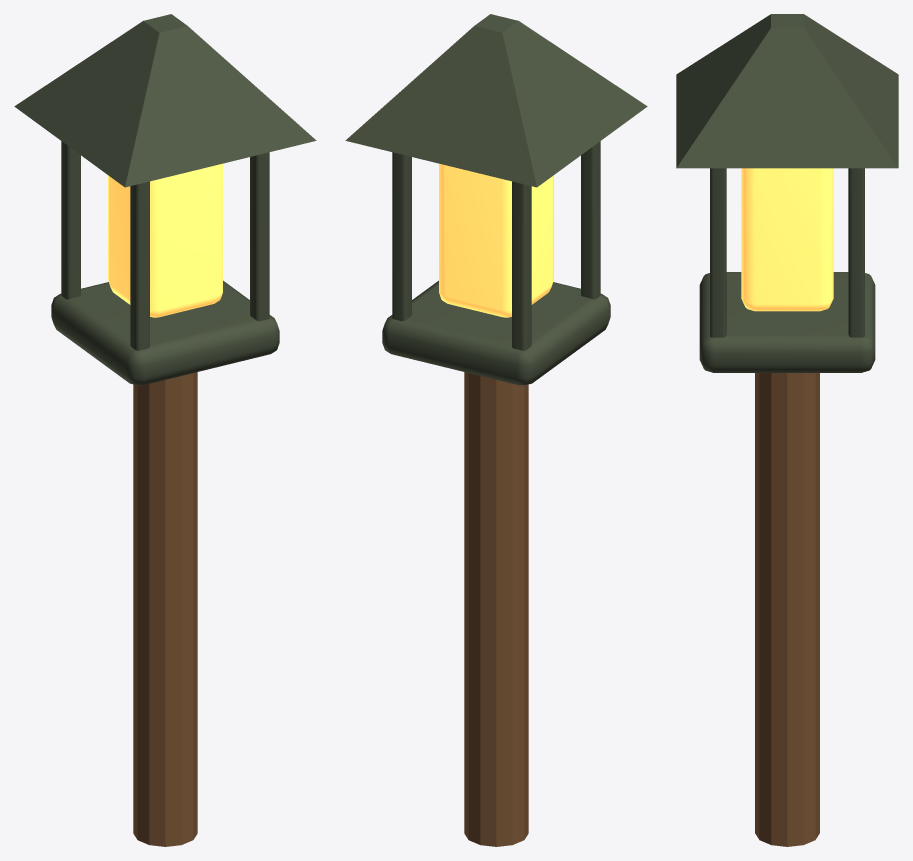
The model's file is Lantern.glb.
The picture shows the model from 3 angles, left to right: view 1: azimuth 30°, elevation 25°; view 2: azimuth 150°, elevation 25°; view 3: azimuth 270°, elevation 25°; orthographic projection.
Parts seen in each view (by area): view 1: Lantern / short garden post, Lantern / sloping cap, Lantern / base, Lantern / warm core, Lantern / frame, Lantern / frame.002, Lantern / frame.001; view 2: Lantern / short garden post, Lantern / sloping cap, Lantern / base, Lantern / warm core, Lantern / frame.001, Lantern / frame.003, Lantern / frame; view 3: Lantern / short garden post, Lantern / sloping cap, Lantern / warm core, Lantern / base, Lantern / frame.002, Lantern / frame.003.
Part boxes in pixels (x1,y1,x2,y2): Lantern / short garden post: (133,372,197,846); Lantern / sloping cap: (14,14,316,187); Lantern / base: (51,280,279,385); Lantern / warm core: (108,163,222,317); Lantern / frame: (130,181,149,350); Lantern / frame.002: (250,152,269,321); Lantern / frame.001: (61,141,80,299); Lantern / short garden post: (464,372,528,846); Lantern / sloping cap: (345,14,647,187); Lantern / base: (382,280,610,385); Lantern / warm core: (439,163,553,317); Lantern / frame.001: (512,181,531,350); Lantern / frame.003: (392,152,411,321); Lantern / frame: (581,141,600,299); Lantern / short garden post: (755,373,819,846); Lantern / sloping cap: (676,14,898,168); Lantern / warm core: (741,168,833,311); Lantern / base: (699,272,875,372); Lantern / frame.002: (710,168,726,337); Lantern / frame.003: (848,168,864,337).
Bounding box in the file's own units: 0.2404 × 0.97 × 0.2404.
